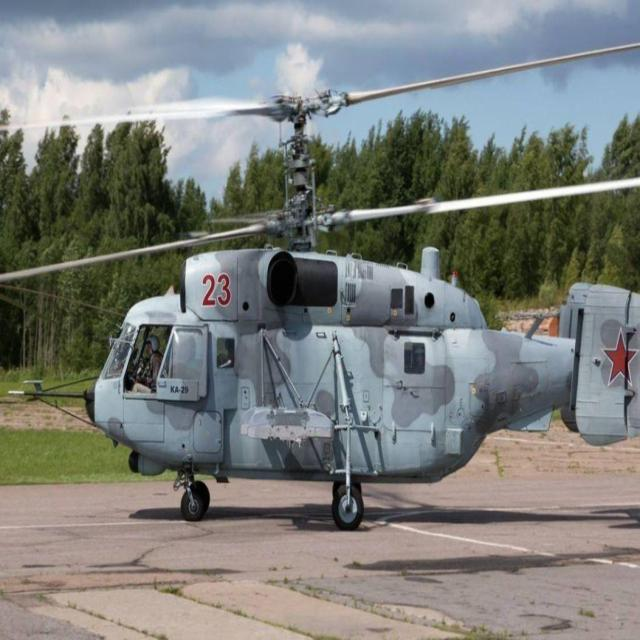MIL_HELO: (0, 38, 640, 534)
